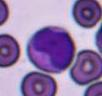M: (26, 26, 75, 73)
